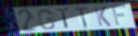2: (18, 8, 40, 34)
F: (110, 4, 128, 27)
G: (37, 8, 56, 31)
K: (94, 6, 113, 28)
T: (74, 6, 90, 29), (56, 8, 71, 30)
